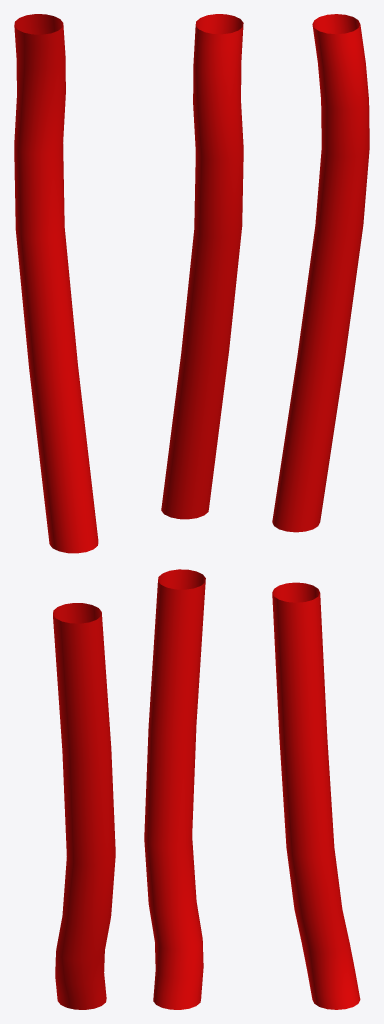
The model's file is wire_broken_3.gltf.
The picture shows the model from 3 angles, left to right: view 1: azimuth 30°, elevation 25°; view 2: azimuth 210°, elevation 25°; view 3: azimuth 270°, elevation 25°; orthographic projection. The views are drawn at different scales.
Visible parts, largest first — view 1: wire_broken_3c; view 2: wire_broken_3c; view 3: wire_broken_3c.
Boxes of the visible parts, box(x1,y1,x2,y2) form: wire_broken_3c: box(14, 14, 115, 1009); wire_broken_3c: box(144, 14, 243, 1009); wire_broken_3c: box(272, 14, 369, 1009).
Size of the model in its own units: 0.1432 by 1.56 by 0.1448.
